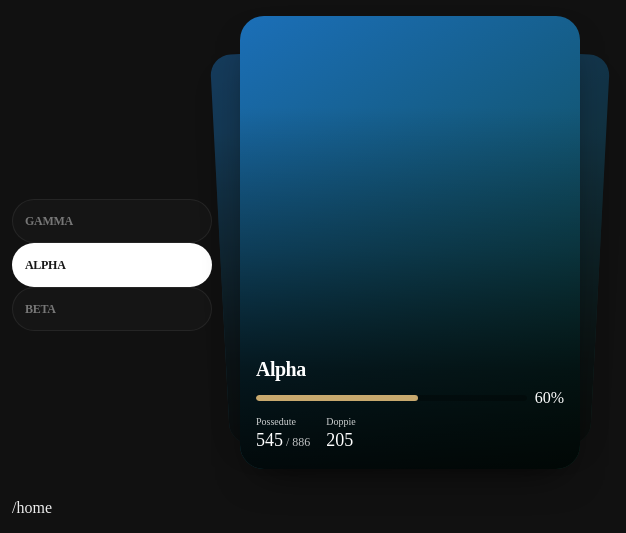
Test: AlbumDeck › tap su nome cambia attivo senza navigare
This screenshot has width=626, height=533.
Click the button "Gamma".
click(112, 220)  # box [12, 198, 212, 242]
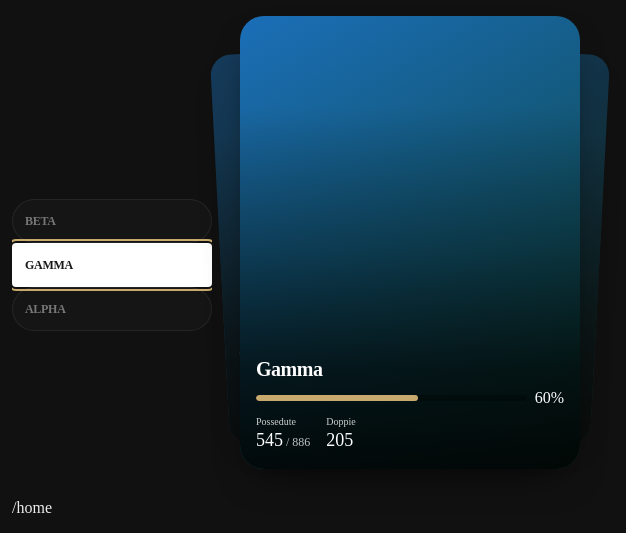
Check: the text with test id "loc" reads "/home", box [12, 499, 52, 516]
Check: the button with aria-label "Apri Gamma" is shown, box [240, 16, 580, 469]
